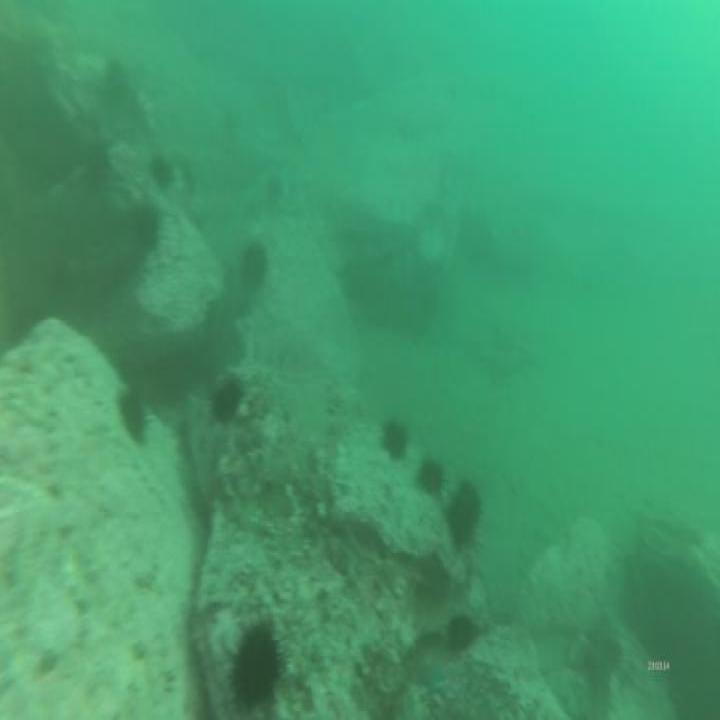echinus: (229, 631, 277, 704), (447, 482, 479, 546), (130, 204, 159, 249), (118, 393, 144, 441), (214, 377, 240, 419), (244, 242, 266, 288), (448, 613, 474, 649), (381, 423, 406, 457), (419, 455, 441, 493), (153, 158, 173, 187)
